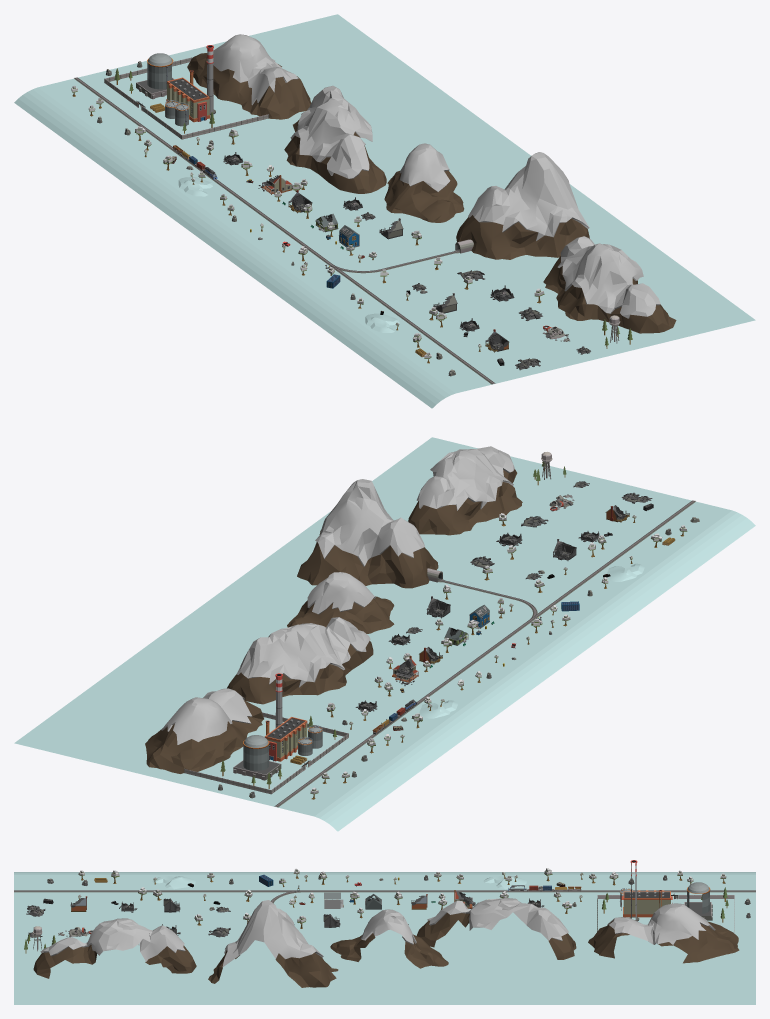
The model's file is _lvl_winter_bg_3.glb.
3 renders of one model, top to bottom at view 1: azimuth 30°, elevation 25°; view 2: azimuth 150°, elevation 25°; view 3: azimuth 270°, elevation 25°, orthographic. The views are drawn at different scales.
Parts seen in each view (by area): view 1: bg_ground_3, bg_ground_far_3, SM_Env_HillSnow_Pack_3, bg_near_plane_winter, SM_Env_Rails_4, Building_Power_Main_01, SA_Prop_Citywall_Full_1, SM_Env_Hills_Small_3, Prop_FuelSilo_01_Dome; view 2: bg_ground_3, bg_ground_far_3, SM_Env_HillSnow_Pack_3, bg_near_plane_winter, SM_Env_Rails_4, Building_Power_Main_01, SA_Prop_Citywall_Full_1, SM_Env_Hills_Small_3, Prop_FuelSilo_01_Dome; view 3: bg_ground_far_3, bg_ground_3, SM_Env_HillSnow_Pack_3, bg_near_plane_winter, SM_Env_Rails_4, Building_Power_Main_01, SM_Env_Hills_Small_3, Prop_FuelSilo_01_Dome, SA_Prop_Citywall_Full_1, SA_Bld_HouseTall_Damaged_03, Building_Power_Base.
Part boxes in pixels (left/top/right/bottom): bg_ground_3: left=38, top=54, right=590, bottom=393; bg_ground_far_3: left=173, top=14, right=755, bottom=360; SM_Env_HillSnow_Pack_3: left=187, top=34, right=676, bottom=333; bg_near_plane_winter: left=14, top=87, right=455, bottom=408; SM_Env_Rails_4: left=74, top=77, right=495, bottom=384; Building_Power_Main_01: left=166, top=77, right=210, bottom=122; SA_Prop_Citywall_Full_1: left=104, top=57, right=268, bottom=139; SM_Env_Hills_Small_3: left=178, top=177, right=399, bottom=332; Prop_FuelSilo_01_Dome: left=147, top=53, right=173, bottom=89; bg_ground_3: left=179, top=477, right=731, bottom=816; bg_ground_far_3: left=14, top=437, right=596, bottom=783; SM_Env_HillSnow_Pack_3: left=145, top=446, right=522, bottom=773; bg_near_plane_winter: left=314, top=510, right=755, bottom=831; SM_Env_Rails_4: left=274, top=500, right=695, bottom=807; Building_Power_Main_01: left=264, top=717, right=307, bottom=761; SA_Prop_Citywall_Full_1: left=184, top=712, right=348, bottom=794; SM_Env_Hills_Small_3: left=419, top=563, right=644, bottom=718; Prop_FuelSilo_01_Dome: left=243, top=735, right=269, bottom=770; bg_ground_far_3: left=14, top=933, right=755, bottom=1004; bg_ground_3: left=14, top=875, right=755, bottom=933; SM_Env_HillSnow_Pack_3: left=33, top=898, right=739, bottom=987; bg_near_plane_winter: left=14, top=872, right=755, bottom=874; SM_Env_Rails_4: left=14, top=890, right=755, bottom=903; Building_Power_Main_01: left=621, top=890, right=672, bottom=917; SM_Env_Hills_Small_3: left=152, top=876, right=526, bottom=889; Prop_FuelSilo_01_Dome: left=686, top=882, right=710, bottom=913; SA_Prop_Citywall_Full_1: left=597, top=895, right=734, bottom=932; SA_Bld_HouseTall_Damaged_03: left=324, top=892, right=343, bottom=908; Building_Power_Base: left=683, top=902, right=712, bottom=920.
Bounding box in the file's own units: 201 × 52.58 × 450.
1 material, 1 textured.
